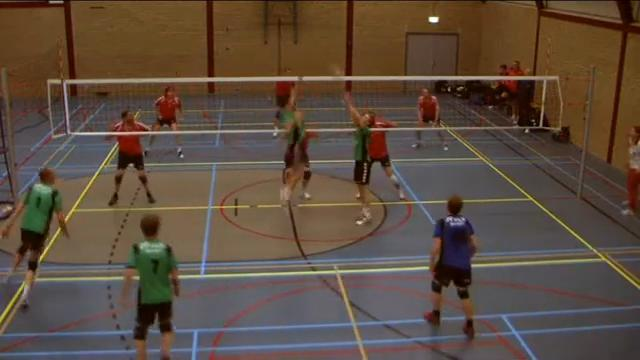Player: (2, 168, 68, 307), (121, 215, 179, 359), (425, 196, 476, 338), (108, 110, 154, 205), (281, 88, 307, 201), (369, 131, 404, 199), (152, 86, 183, 131), (273, 81, 295, 137), (301, 131, 317, 199), (417, 88, 440, 127)
Set: (339, 86, 383, 232)
ball: (331, 63, 347, 81)
